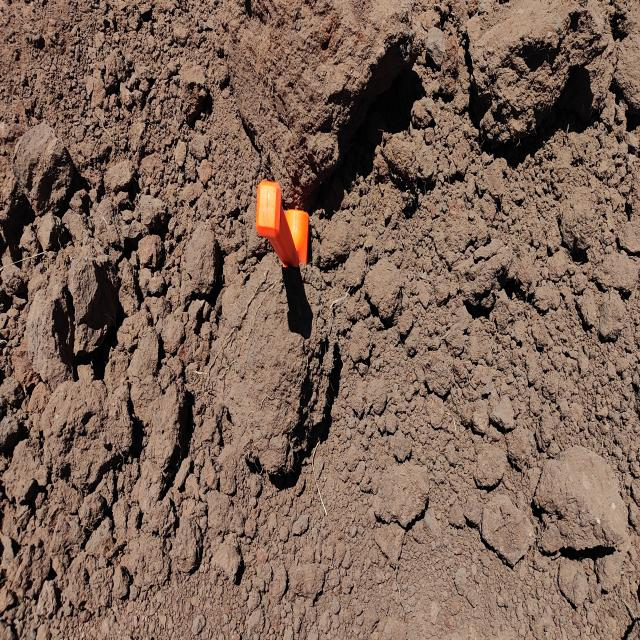Orange_hammer: (255, 178, 309, 270)
